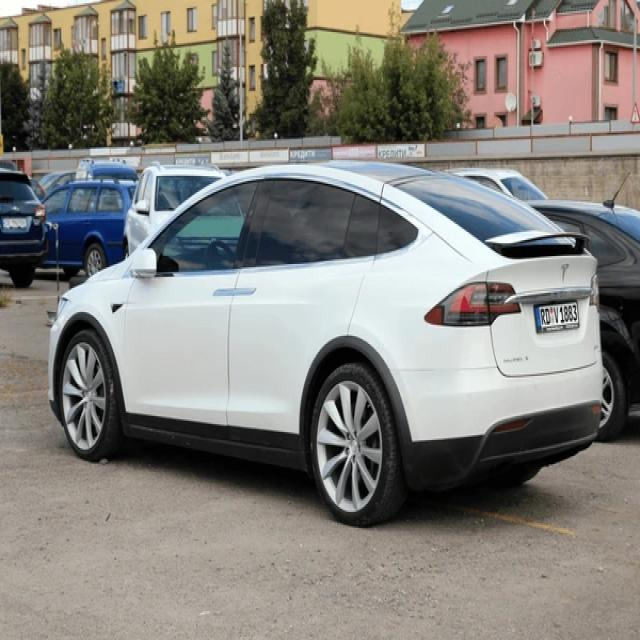tesla: (558, 257, 572, 285)
